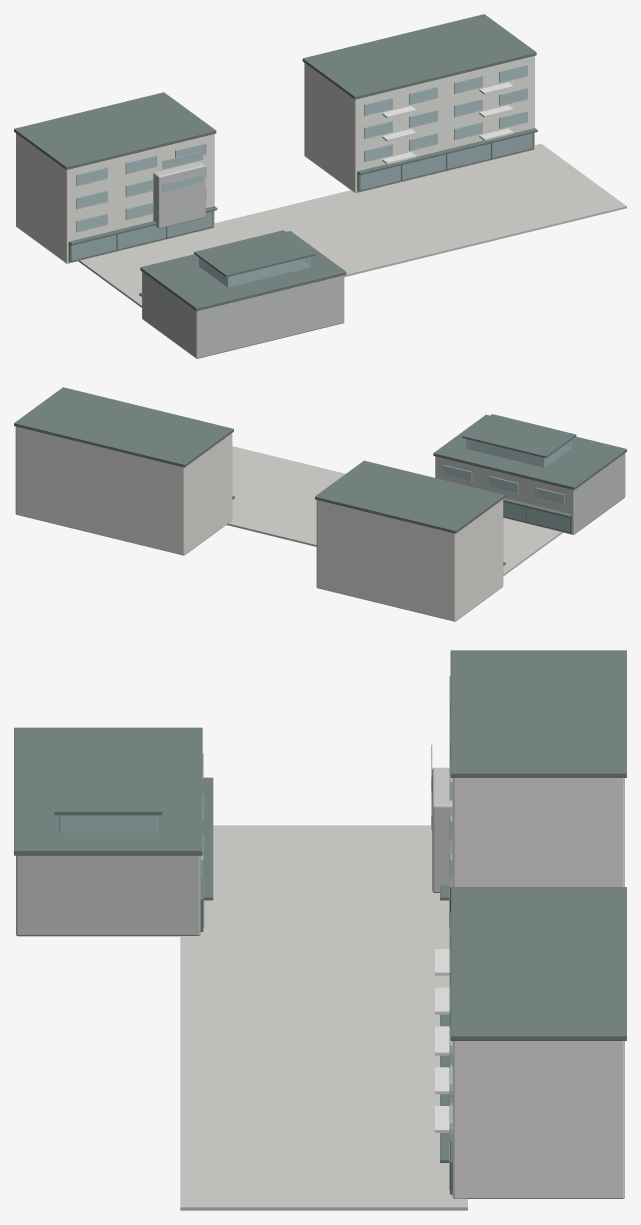
The model's file is xingfuli-center-massing.glb.
The picture shows the model from 3 angles, top to bottom: view 1: azimuth 30°, elevation 25°; view 2: azimuth 150°, elevation 25°; view 3: azimuth 270°, elevation 25°; orthographic projection. The views are drawn at different scales.
Visible parts, largest first — view 1: xingfuli-center-massing; view 2: xingfuli-center-massing; view 3: xingfuli-center-massing.
Boxes of the visible parts, <box> form: xingfuli-center-massing: <box>14,14,626,358</box>; xingfuli-center-massing: <box>14,387,626,621</box>; xingfuli-center-massing: <box>14,650,626,1210</box>.
Bounding box in the file's own units: 45.34 × 8.97 × 29.83.
